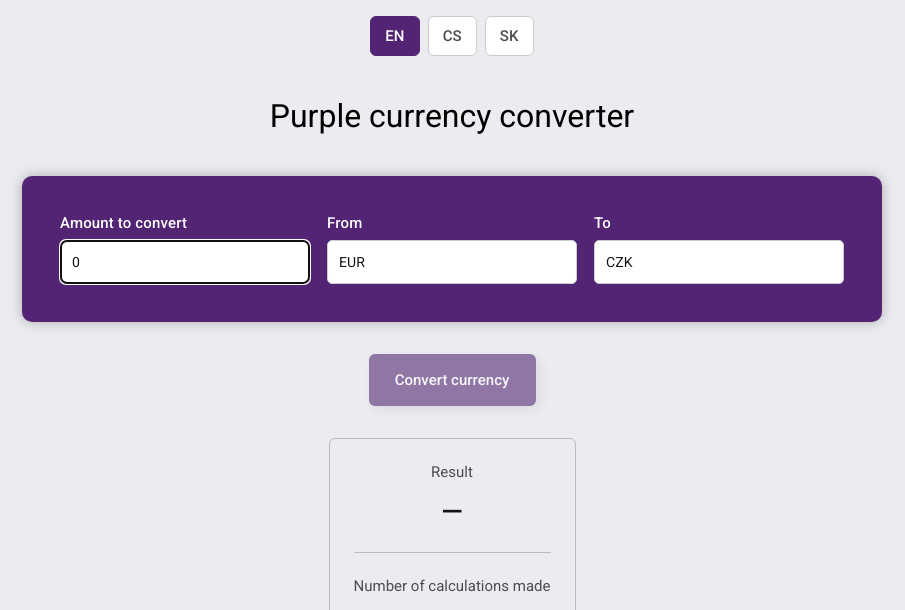
Test case: the in-flight announcement and the error placements (§10) › the pending button is disabled, aria-busy and carries the status spinner
In the field labelled "Amount to convert": (185, 262) [60,240,310,284], type "100"
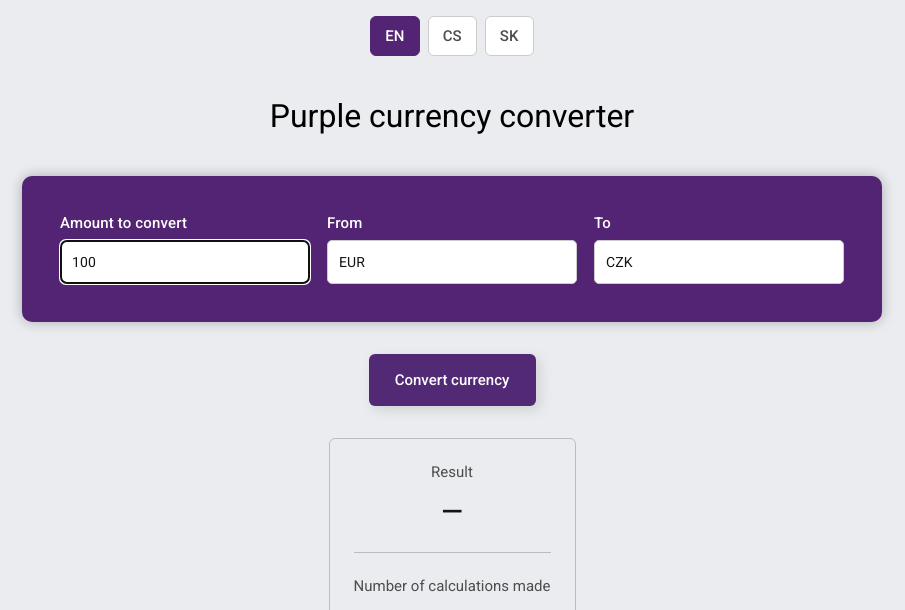
Click the button "Convert currency": (452, 380) [368,354,536,406]
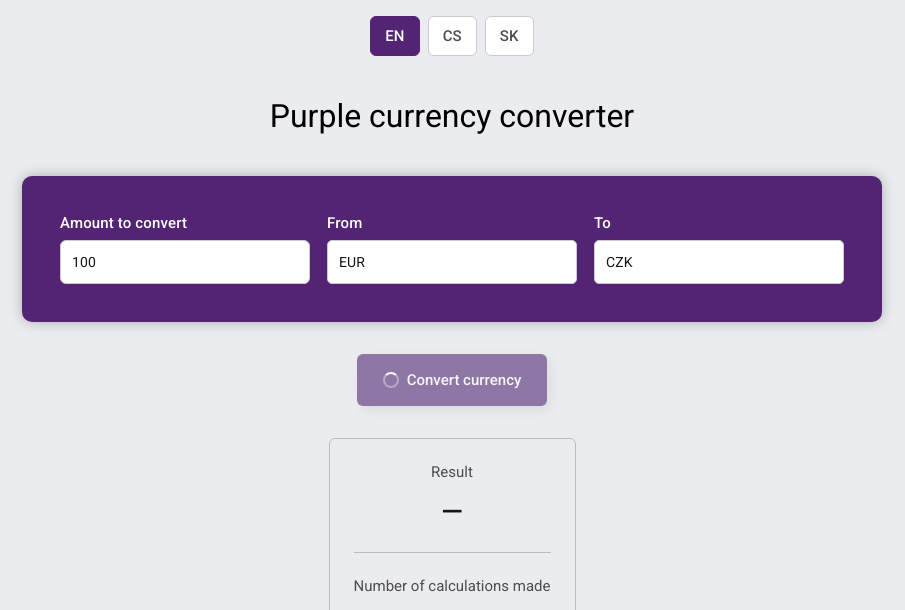
Now the button "Convert currency" is disabled, box [357,354,547,406]
Now the message is shown, box [383,372,399,388]
